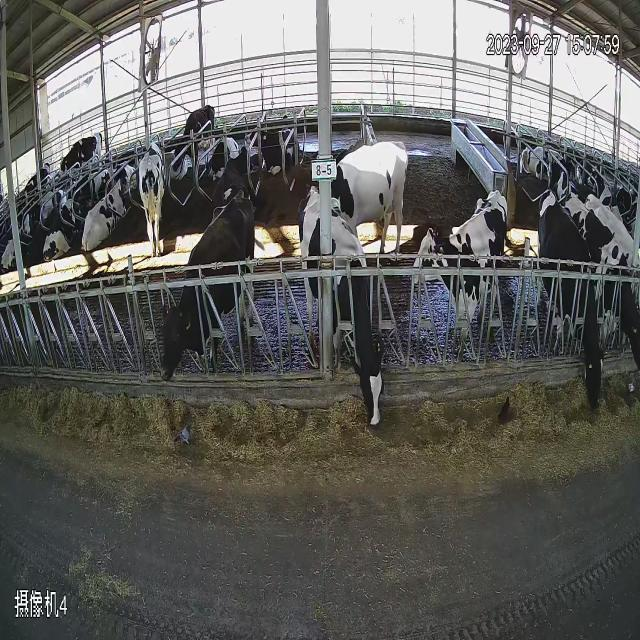feeding: (297, 187, 403, 437), (538, 179, 640, 412)
lying down: (240, 92, 306, 186), (80, 157, 138, 250), (514, 118, 574, 184), (207, 138, 263, 201), (580, 147, 628, 220), (48, 184, 82, 268), (203, 121, 245, 184), (0, 188, 42, 244)
standing: (152, 174, 256, 388), (411, 176, 519, 345), (320, 120, 420, 236), (138, 132, 169, 262), (55, 118, 107, 178)
